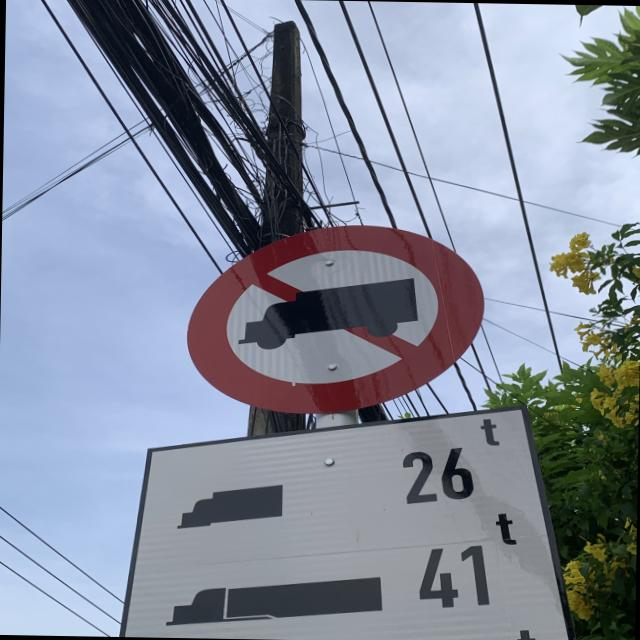Cam_Xe_Tai: (184, 219, 485, 418)
